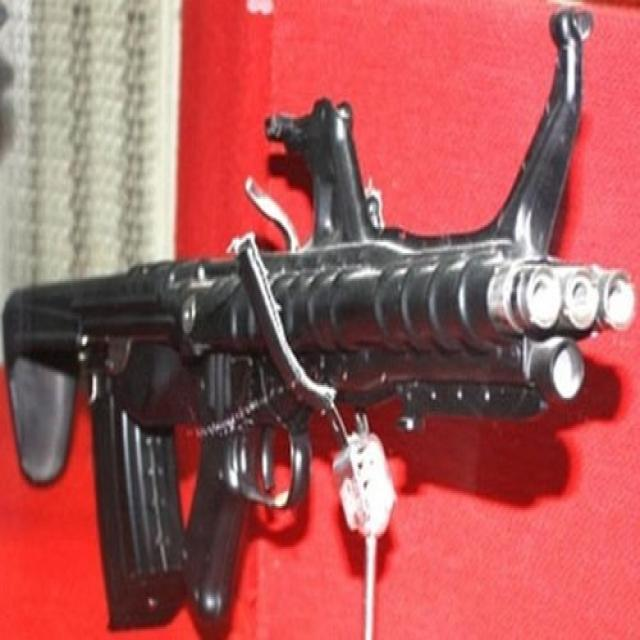firearm: (6, 11, 634, 629)
